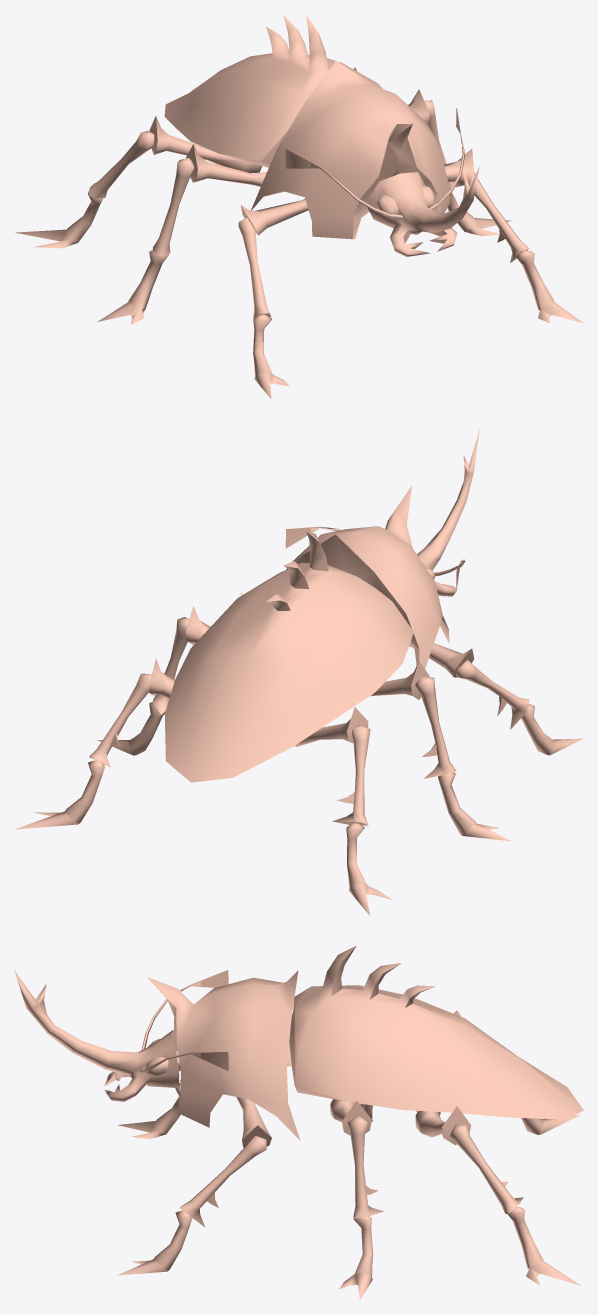
Rendered from hornbug.obj.
The picture shows the model from 3 angles, top to bottom: view 1: azimuth 30°, elevation 25°; view 2: azimuth 150°, elevation 25°; view 3: azimuth 270°, elevation 25°; orthographic projection.
Bounding box in the file's own units: 1.99 × 1.18 × 2.39.
